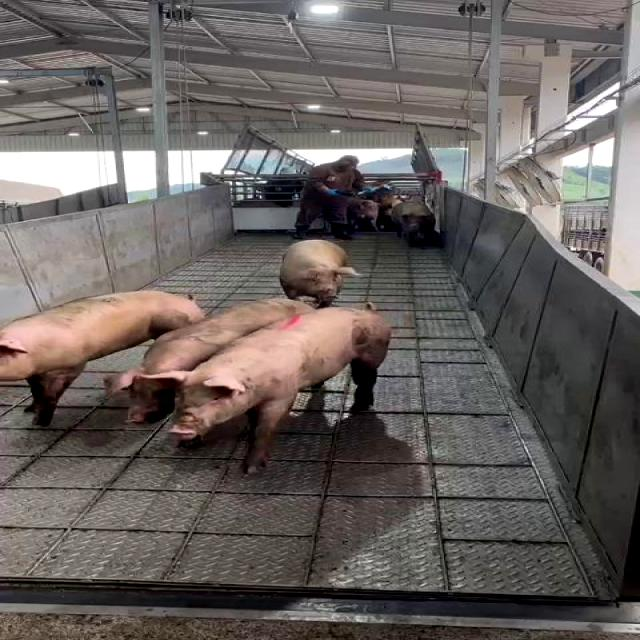pig: (182, 362, 408, 474), (0, 269, 107, 437), (115, 324, 182, 435), (270, 236, 353, 302)
